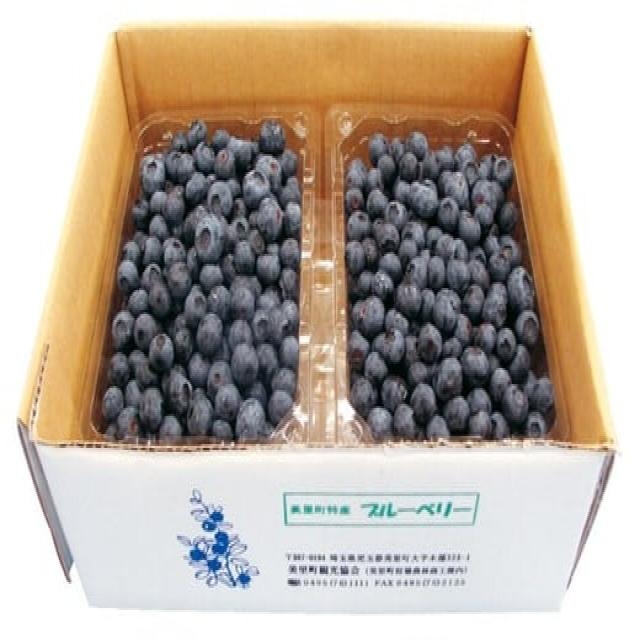blueberry: (91, 106, 315, 444), (336, 112, 555, 446)
